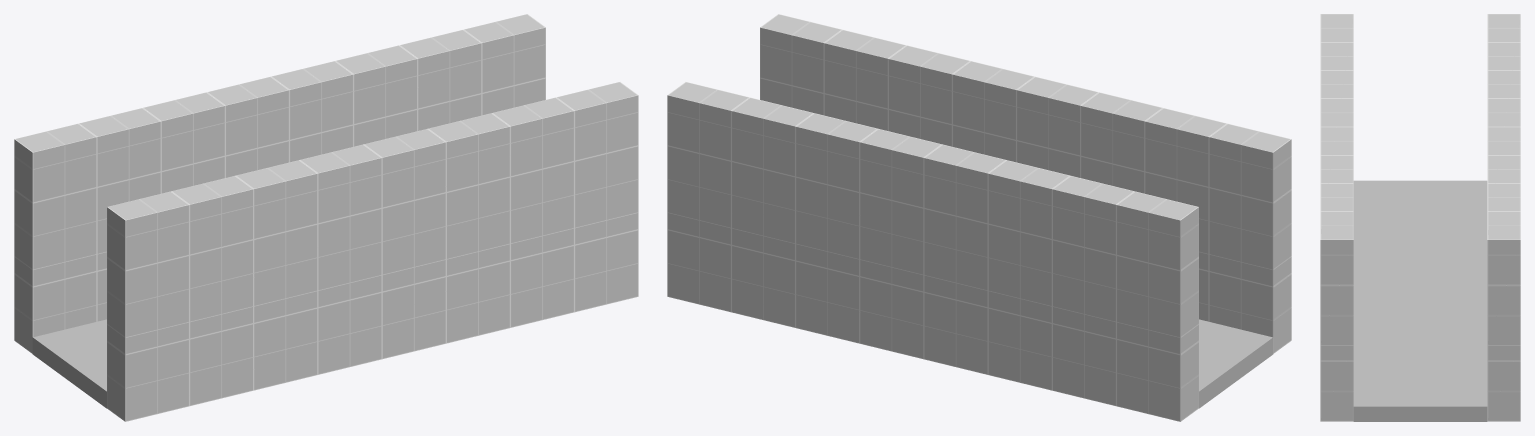
Rendered from EastWestHallway.unity_5.obj.
3 renders of one model, left to right at view 1: azimuth 30°, elevation 25°; view 2: azimuth 150°, elevation 25°; view 3: azimuth 270°, elevation 25°, orthographic. The views are drawn at different scales.
Visible parts, largest first — view 1: UpperWallW, UpperWallE, LowerWallW, LowerWallE, Floor; view 2: UpperWallE, UpperWallW, LowerWallE, LowerWallW, Floor; view 3: Floor, UpperWallW, UpperWallE, LowerWallW, LowerWallE.
Boxes of the visible parts, bbox=[...] form: UpperWallW: bbox=[107, 82, 638, 337]; UpperWallE: bbox=[14, 14, 545, 269]; LowerWallW: bbox=[107, 213, 638, 421]; LowerWallE: bbox=[14, 252, 106, 353]; Floor: bbox=[32, 319, 106, 408]; UpperWallE: bbox=[667, 82, 1198, 337]; UpperWallW: bbox=[760, 14, 1291, 269]; LowerWallE: bbox=[667, 213, 1198, 421]; LowerWallW: bbox=[1199, 252, 1291, 353]; Floor: bbox=[1199, 319, 1273, 408]; Floor: bbox=[1353, 180, 1487, 421]; UpperWallW: bbox=[1320, 14, 1353, 345]; UpperWallE: bbox=[1487, 14, 1520, 345]; LowerWallW: bbox=[1320, 346, 1353, 421]; LowerWallE: bbox=[1487, 346, 1520, 421].
Size of the model in its own units: 8 by 3.01 by 3.
